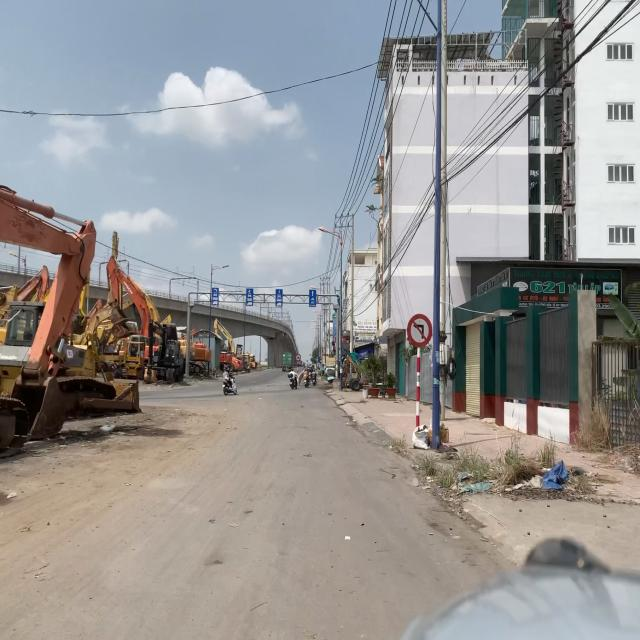Cam re trai: (406, 312, 433, 348)
